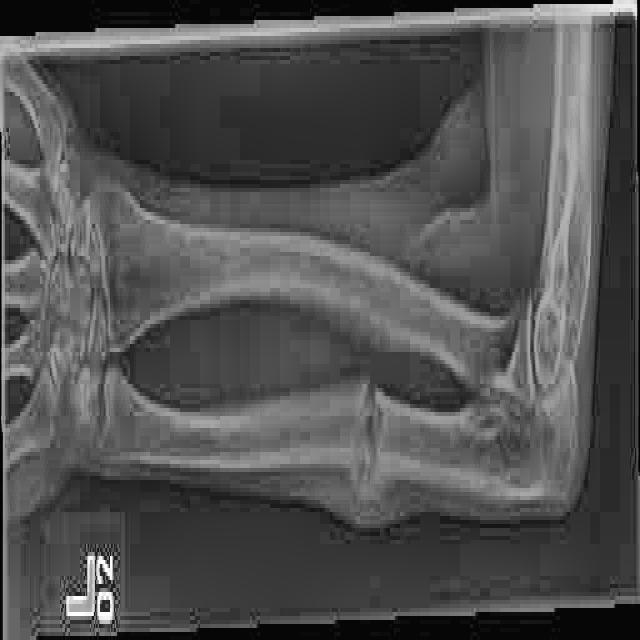forearm fracture: (342, 352, 401, 517)
